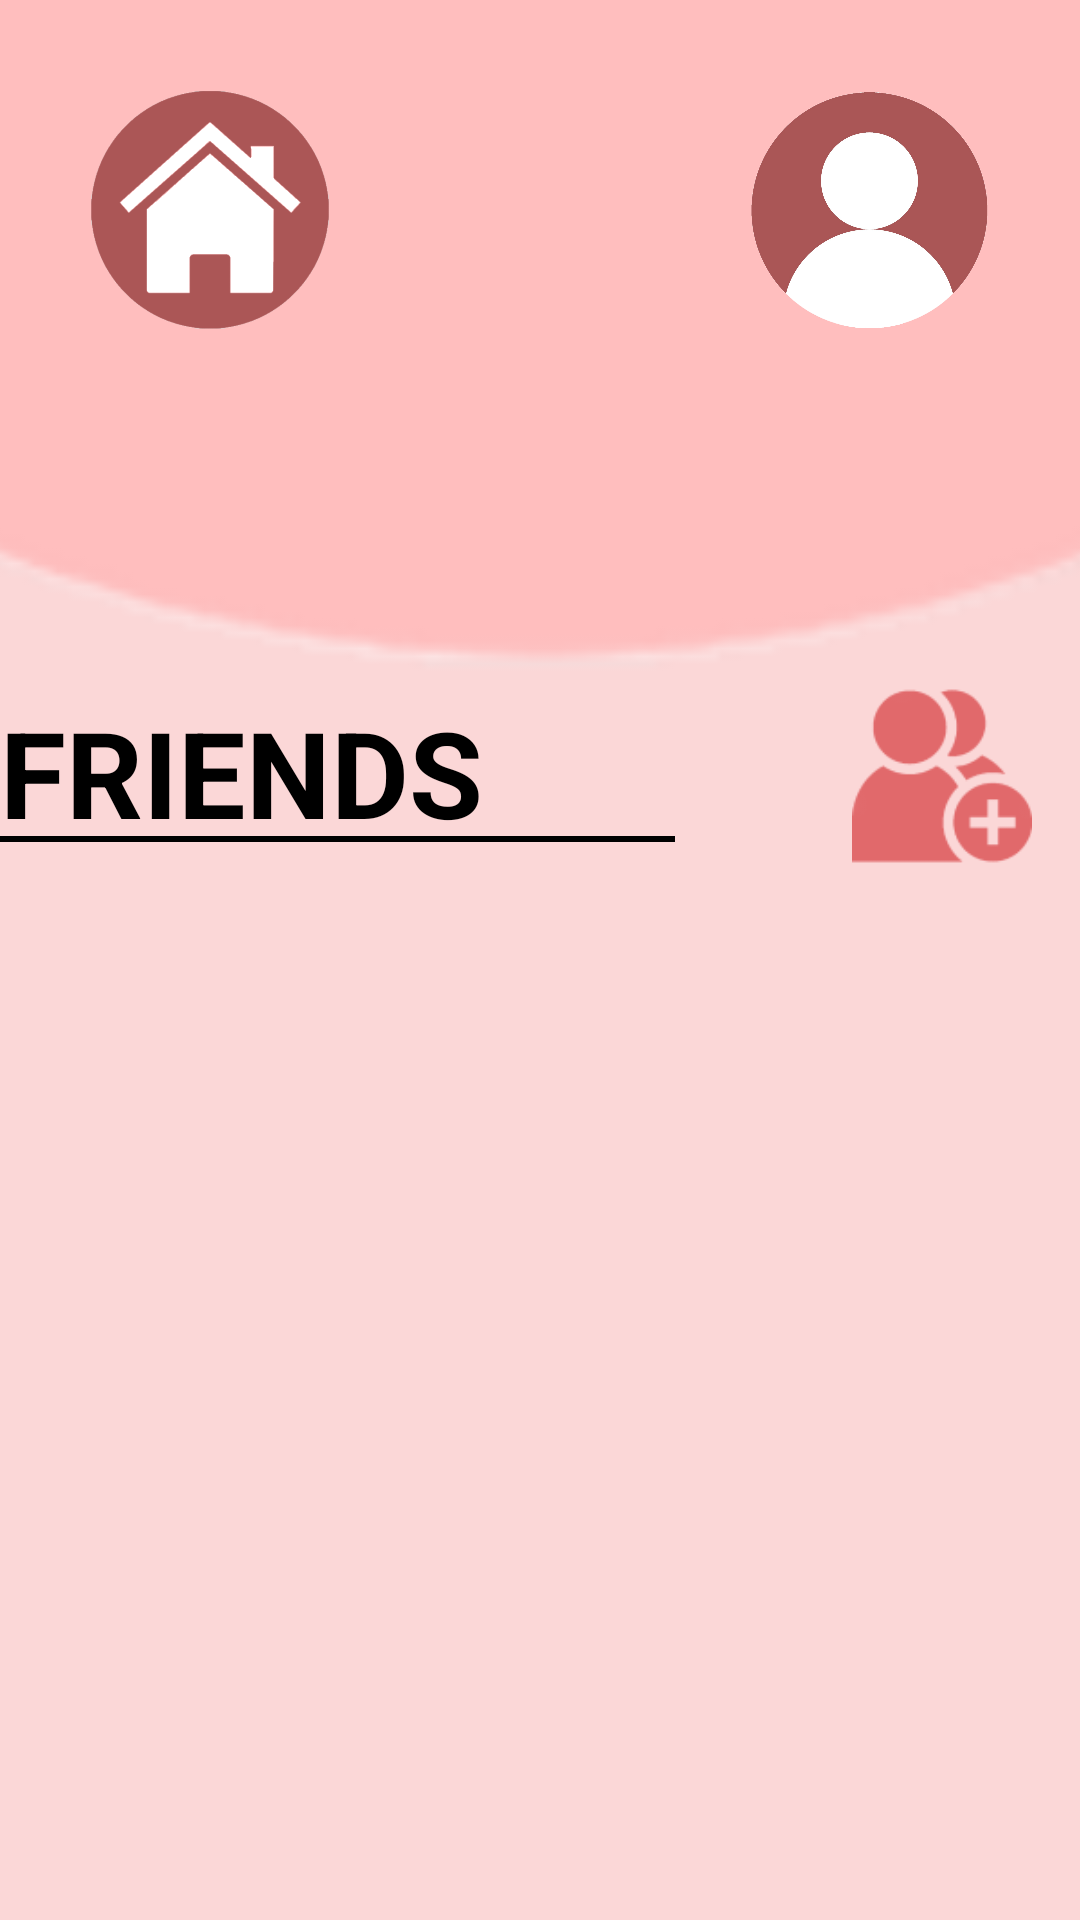

Icon click points for this 1080×1920 phone screenshot, format (x,y):
add friend: (942,776)
home: (210,210)
usuario: (869,210)
